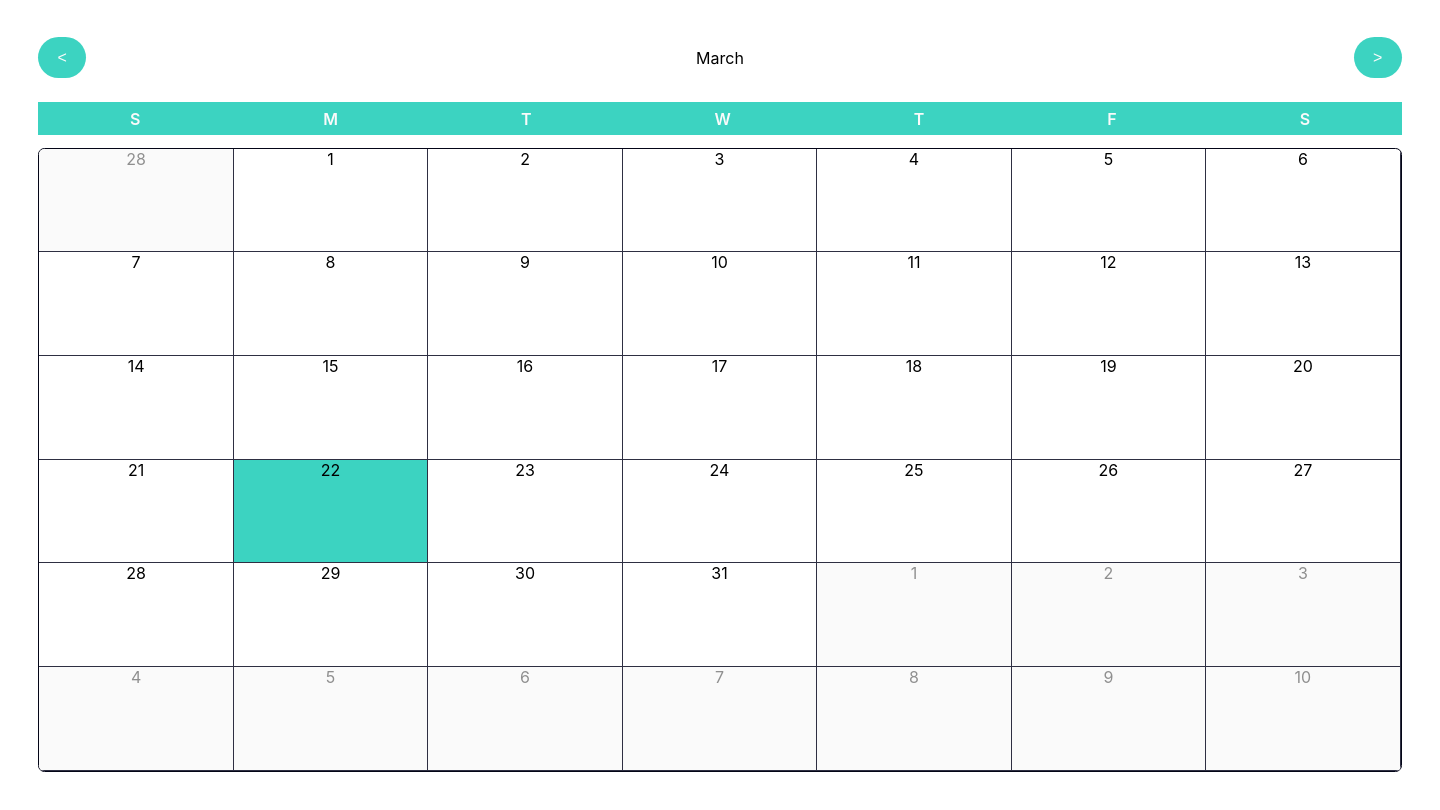
Test case: reminder keeps city data
The image size is (1440, 810).
Click the element with test id "today-cell": (331, 512) [234,460,428,563]
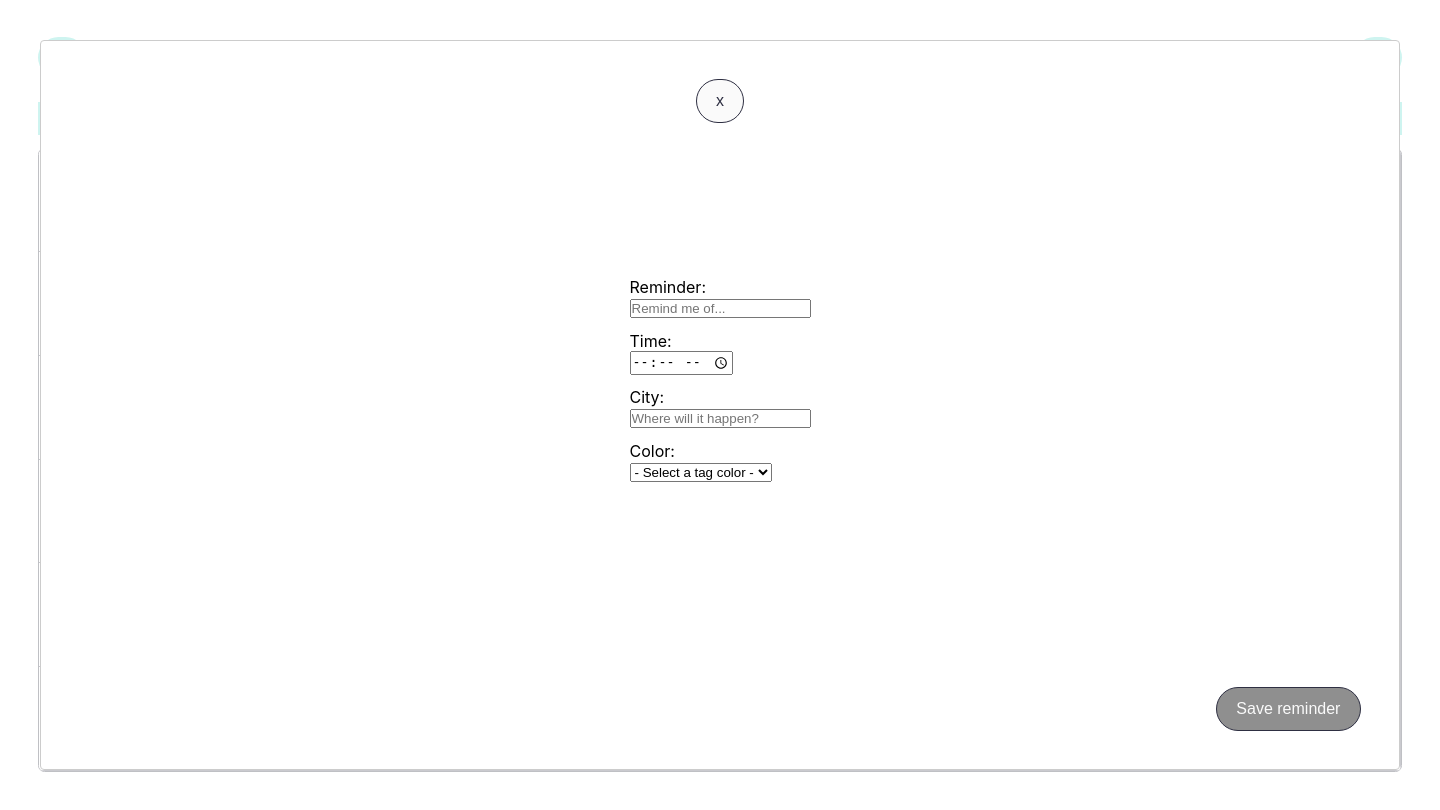
expect the button "Save reminder" is shown: met, box [1216,687,1361,731]
In the field with placeholder "Remind me of...": (720, 308) [630,299,810,318], type "write tests"
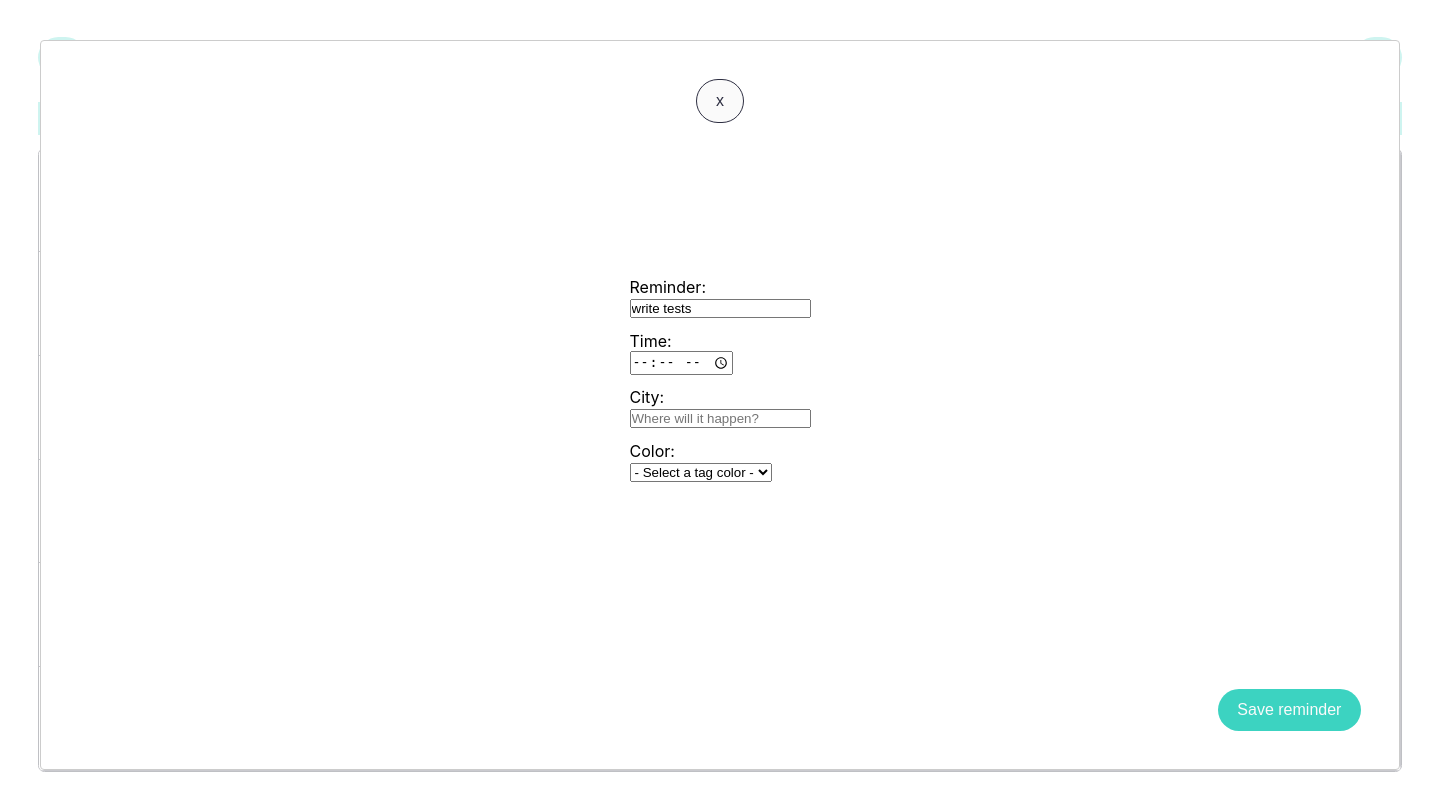
In the field with placeholder "Where will it happen?": (720, 419) [630,409,810,428], type "Bogotá"
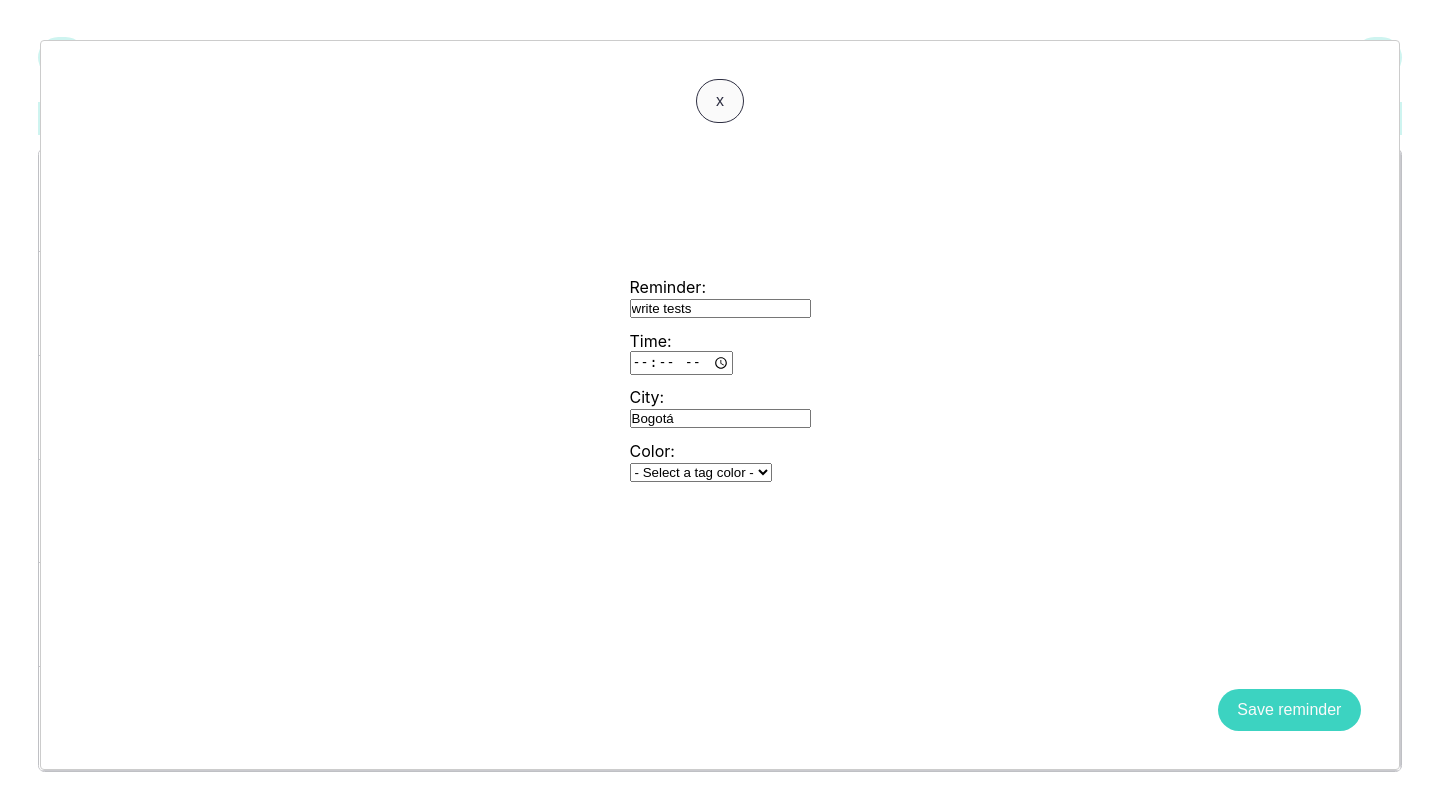
Click the button "Save reminder": (1289, 710) [1218,689,1361,731]
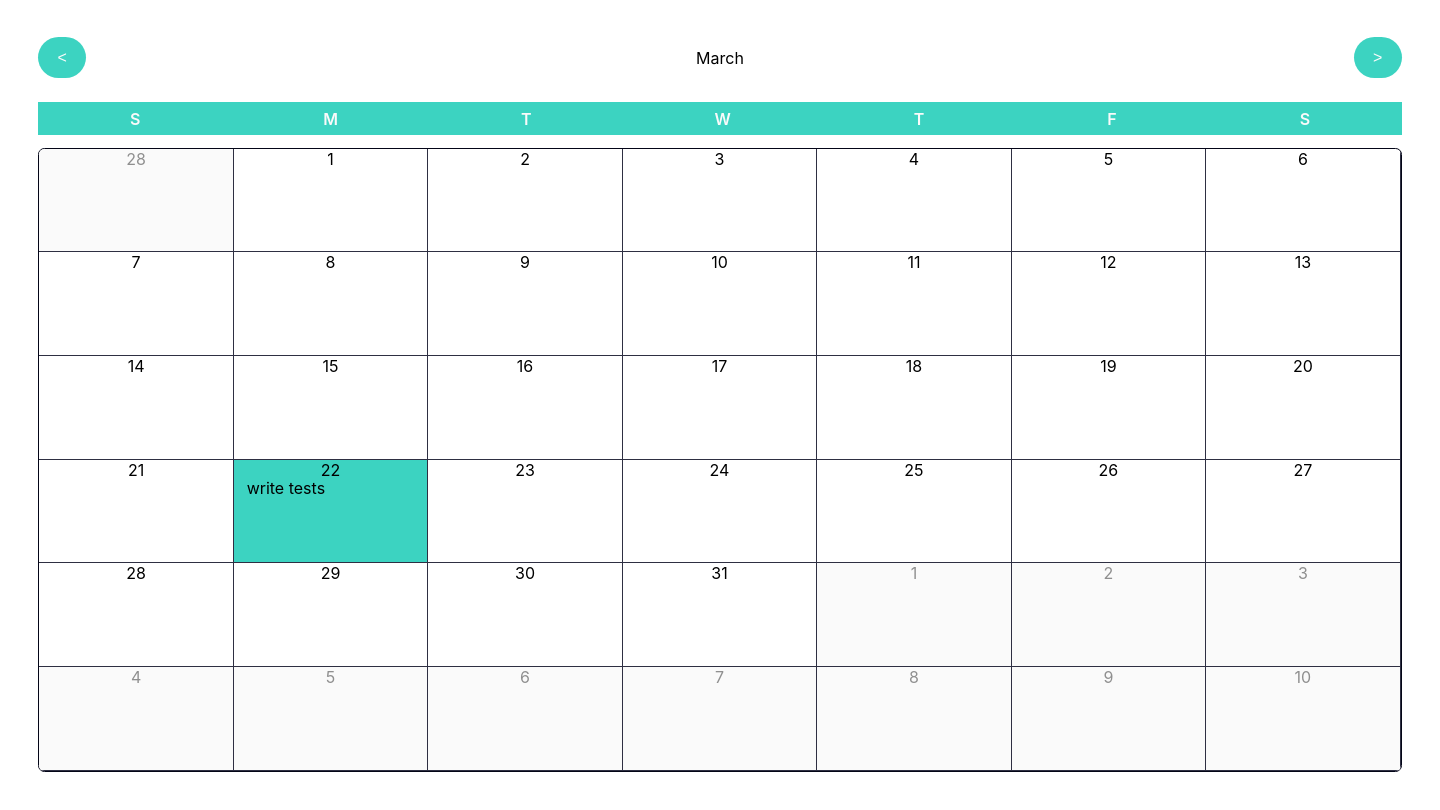
Click the text "write tests": (286, 488) [247,478,325,498]
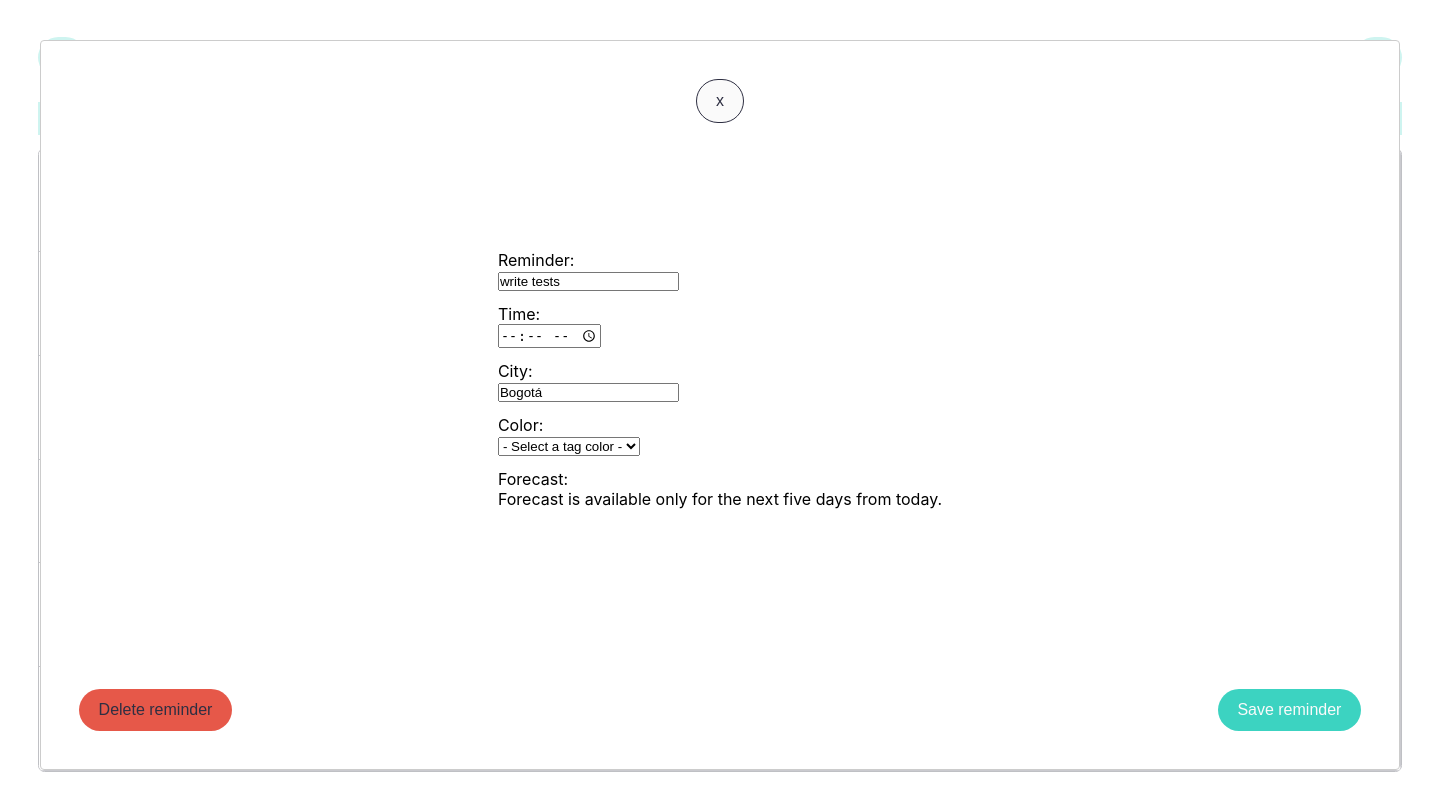
expect the button "Delete reminder" is shown: met, box [79,689,232,731]
expect the field showing "write tests" is shown: met, box [498,272,679,291]
expect the field showing "Bogotá" is shown: met, box [498,383,679,402]
